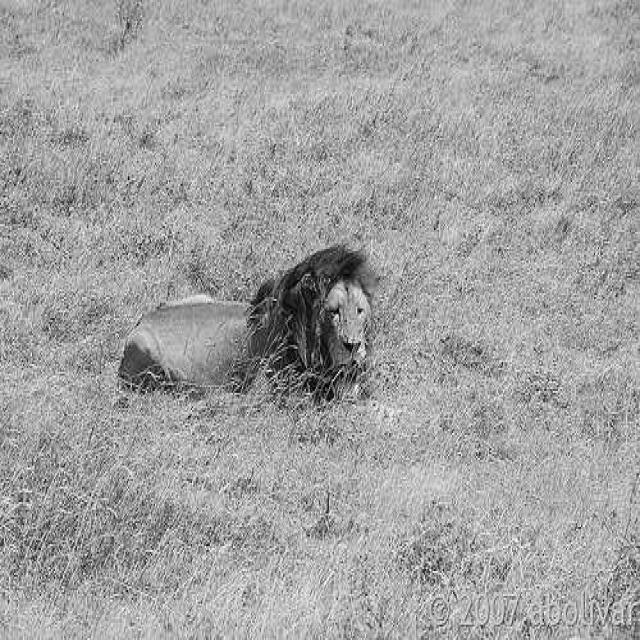Lion: (126, 235, 437, 416)
